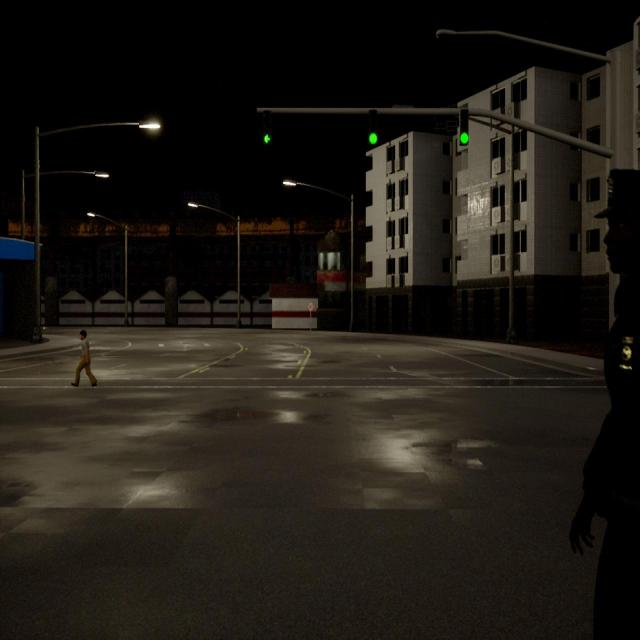Pedestrian: (570, 169, 640, 638), (71, 330, 97, 387)
Traffic_Signs: (308, 304, 313, 310)
traffic_light: (460, 109, 468, 145), (263, 110, 271, 145), (369, 110, 377, 145)
